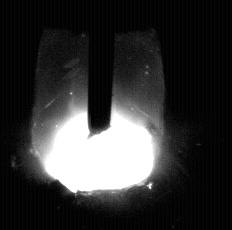arame: (88, 0, 112, 140)
poca: (31, 0, 166, 230)
